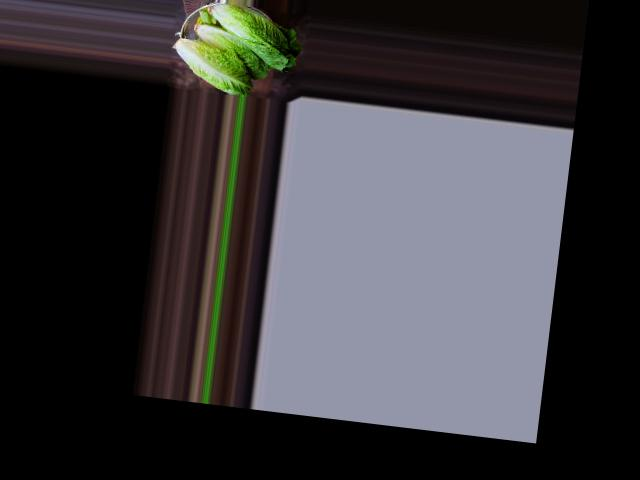lettuce: (194, 0, 302, 74)
